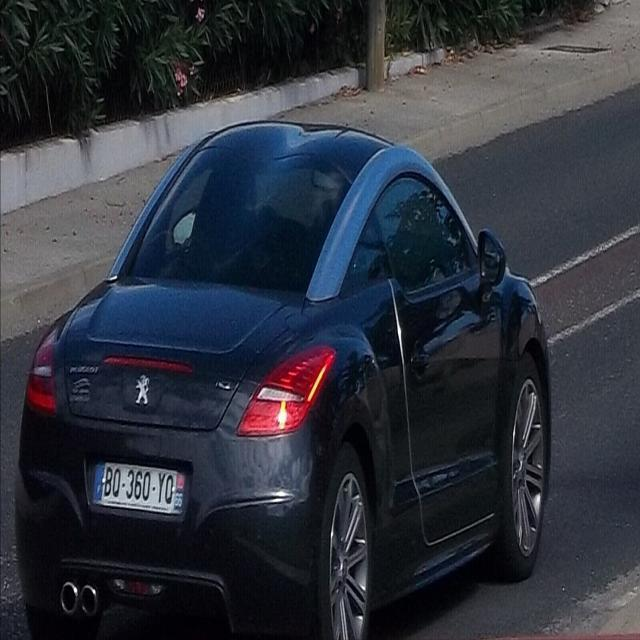Autre: (83, 455, 191, 524)
